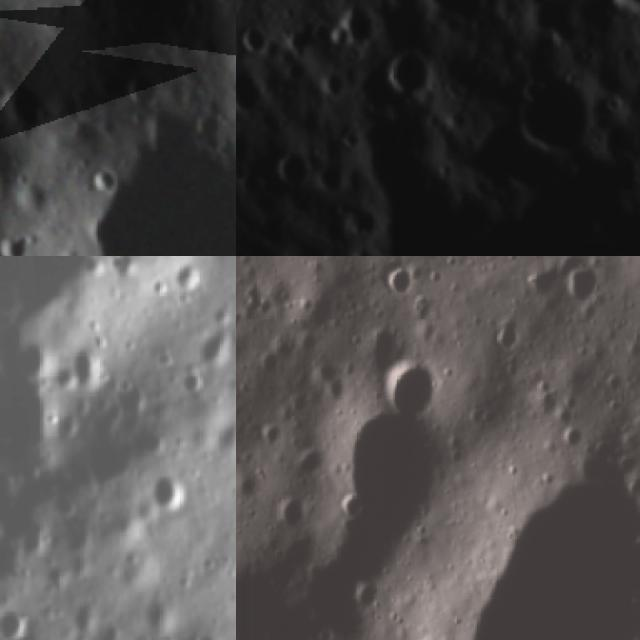crater: (23, 64, 236, 256), (441, 451, 640, 640), (314, 382, 479, 534), (236, 525, 375, 640), (370, 346, 455, 424), (0, 62, 69, 146), (110, 51, 173, 120), (73, 148, 134, 212), (0, 124, 41, 211), (408, 0, 507, 32), (382, 45, 439, 97), (154, 458, 197, 514), (327, 0, 380, 43), (272, 486, 318, 533), (0, 216, 52, 256), (561, 263, 603, 310), (378, 256, 417, 306), (77, 344, 111, 394), (204, 324, 236, 377), (248, 348, 285, 388), (1, 600, 37, 640), (236, 462, 267, 505), (236, 14, 270, 53), (558, 414, 592, 453), (294, 440, 324, 482), (236, 65, 263, 111), (531, 384, 563, 421), (490, 318, 521, 356), (179, 256, 205, 300), (602, 0, 640, 19), (236, 304, 244, 346)
